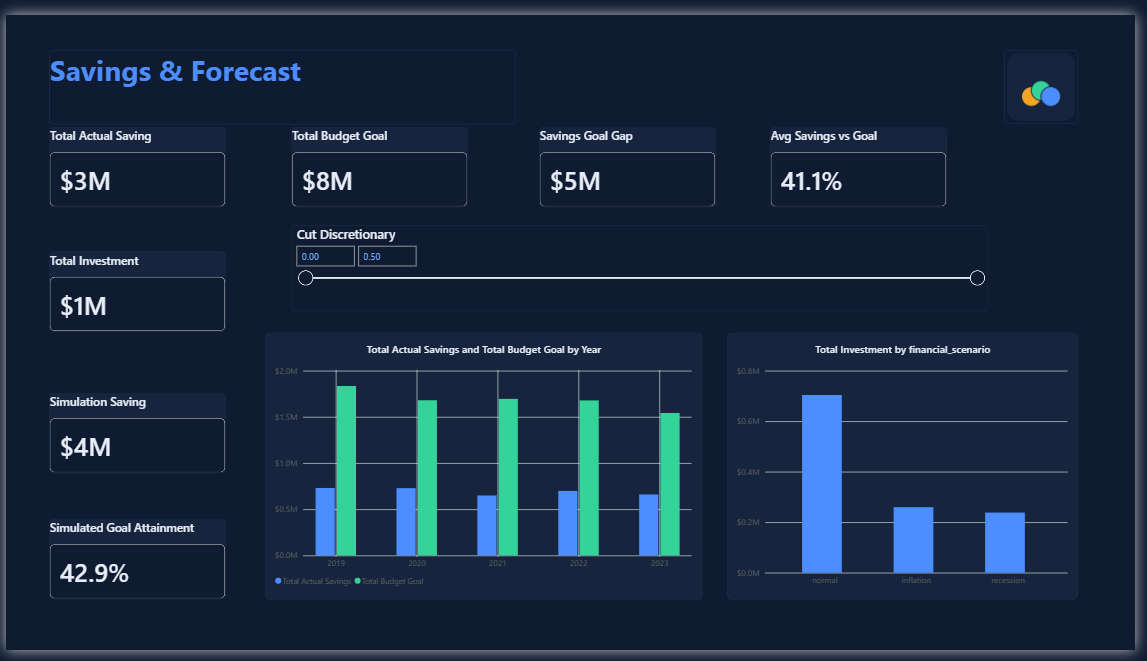

This screenshot's page, from the dashboard's own definition file:
{"tool":"powerbi","page":{"name":"Savings & Forecast","canvas":[1920,1080],"ordinal":5},"visuals":[{"type":"image","box":[1697.7,60.5,125.6,125.6],"z":0},{"type":"cardVisual","title":"Total Actual Saving","fields":{"Data":["Fact_Finance.Total Actual Savings"]},"box":[73.3,190,300,136.7],"z":1000},{"type":"cardVisual","title":"Total Budget Goal","fields":{"Data":["Fact_Finance.Total Budget Goal"]},"box":[486.7,190,300,136.7],"z":2000},{"type":"cardVisual","title":"Savings Goal Gap","fields":{"Data":["Fact_Finance.Savings Goal Gap"]},"box":[906.7,190,300,136.7],"z":3000},{"type":"cardVisual","title":"Avg Savings vs Goal","fields":{"Data":["Fact_Finance.Avg Savings vs Goal"]},"box":[1300,190,300,136.7],"z":4000},{"type":"cardVisual","title":"Total Investment","fields":{"Data":["Fact_Finance.Total Investment"]},"box":[73.3,403.3,300,136.7],"z":5000},{"type":"clusteredColumnChart","fields":{"Category":["Dim_Date.Year"],"Y":["Fact_Finance.Total Actual Savings","Fact_Finance.Total Budget Goal"]},"box":[440,540,743.3,453.3],"z":6000},{"type":"columnChart","fields":{"Category":["Fact_Finance.financial_scenario"],"Y":["Fact_Finance.Total Investment"]},"box":[1226.7,540,596.7,453.3],"z":7000},{"type":"slicer","fields":{"Values":["Cut Discretionary.Cut Discretionary"]},"box":[486.7,356.7,1183.3,146.7],"z":8000},{"type":"cardVisual","title":"Simulation Saving","fields":{"Data":["Fact_Finance.Simulated Savings"]},"box":[73.3,643.3,300,136.7],"z":9000},{"type":"cardVisual","title":"Simulated Goal Attainment","fields":{"Data":["Fact_Finance.Simulated Goal Attainment"]},"box":[73.3,856.7,300,136.7],"z":10000},{"type":"textbox","box":[73.3,60,793.3,126.7],"z":11000}]}

Visuals, with their boxes in screenshot pixels (x1, y1, x2, y2), scaled from the page's 1920x1080 canvas onto the 1147x661 screenshot:
image: 1014:37:1089:114
"Total Actual Saving" cardVisual: 44:116:223:200
"Total Budget Goal" cardVisual: 291:116:470:200
"Savings Goal Gap" cardVisual: 542:116:721:200
"Avg Savings vs Goal" cardVisual: 777:116:956:200
"Total Investment" cardVisual: 44:247:223:330
clusteredColumnChart - Dim_Date.Year x Fact_Finance.Total Actual Savings: 263:330:707:608
columnChart - Fact_Finance.financial_scenario x Fact_Finance.Total Investment: 733:330:1089:608
slicer - Cut Discretionary.Cut Discretionary: 291:218:998:308
"Simulation Saving" cardVisual: 44:394:223:477
"Simulated Goal Attainment" cardVisual: 44:524:223:608
textbox: 44:37:518:114
